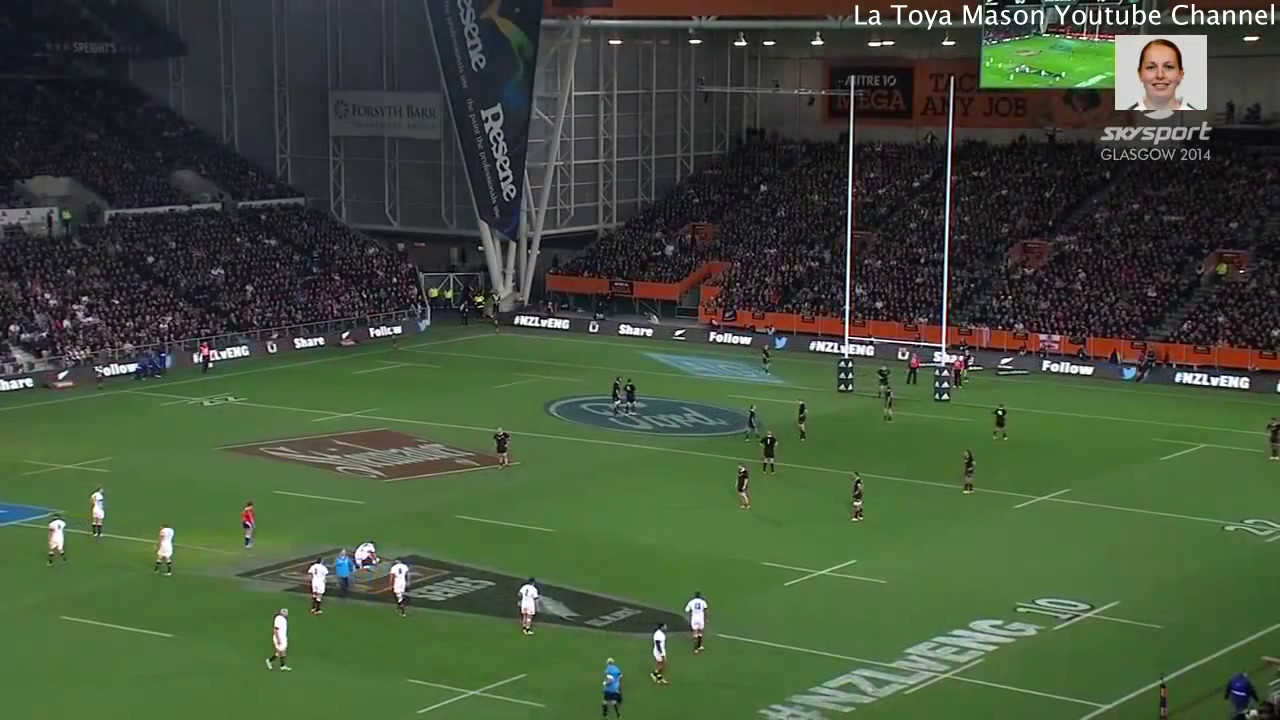10_metre: (1010, 585, 1166, 643), (399, 659, 549, 713), (754, 547, 899, 597), (13, 446, 122, 482)
player: (257, 598, 301, 680), (581, 648, 631, 720), (675, 586, 720, 665), (638, 612, 675, 686), (509, 570, 546, 643), (297, 548, 332, 622), (385, 550, 417, 628), (148, 513, 181, 584), (840, 465, 876, 526), (81, 481, 114, 547), (954, 442, 988, 501), (233, 495, 261, 562), (343, 525, 381, 574), (329, 539, 357, 605), (484, 420, 518, 474), (728, 460, 759, 519), (42, 512, 72, 571), (985, 394, 1013, 450), (755, 424, 781, 481), (792, 394, 816, 448), (619, 369, 643, 417), (739, 398, 764, 444), (1259, 413, 1280, 466), (608, 371, 628, 423), (872, 359, 898, 399), (878, 382, 900, 428), (755, 339, 780, 377), (950, 351, 970, 391), (901, 347, 919, 387)
post: (832, 112, 959, 404)
